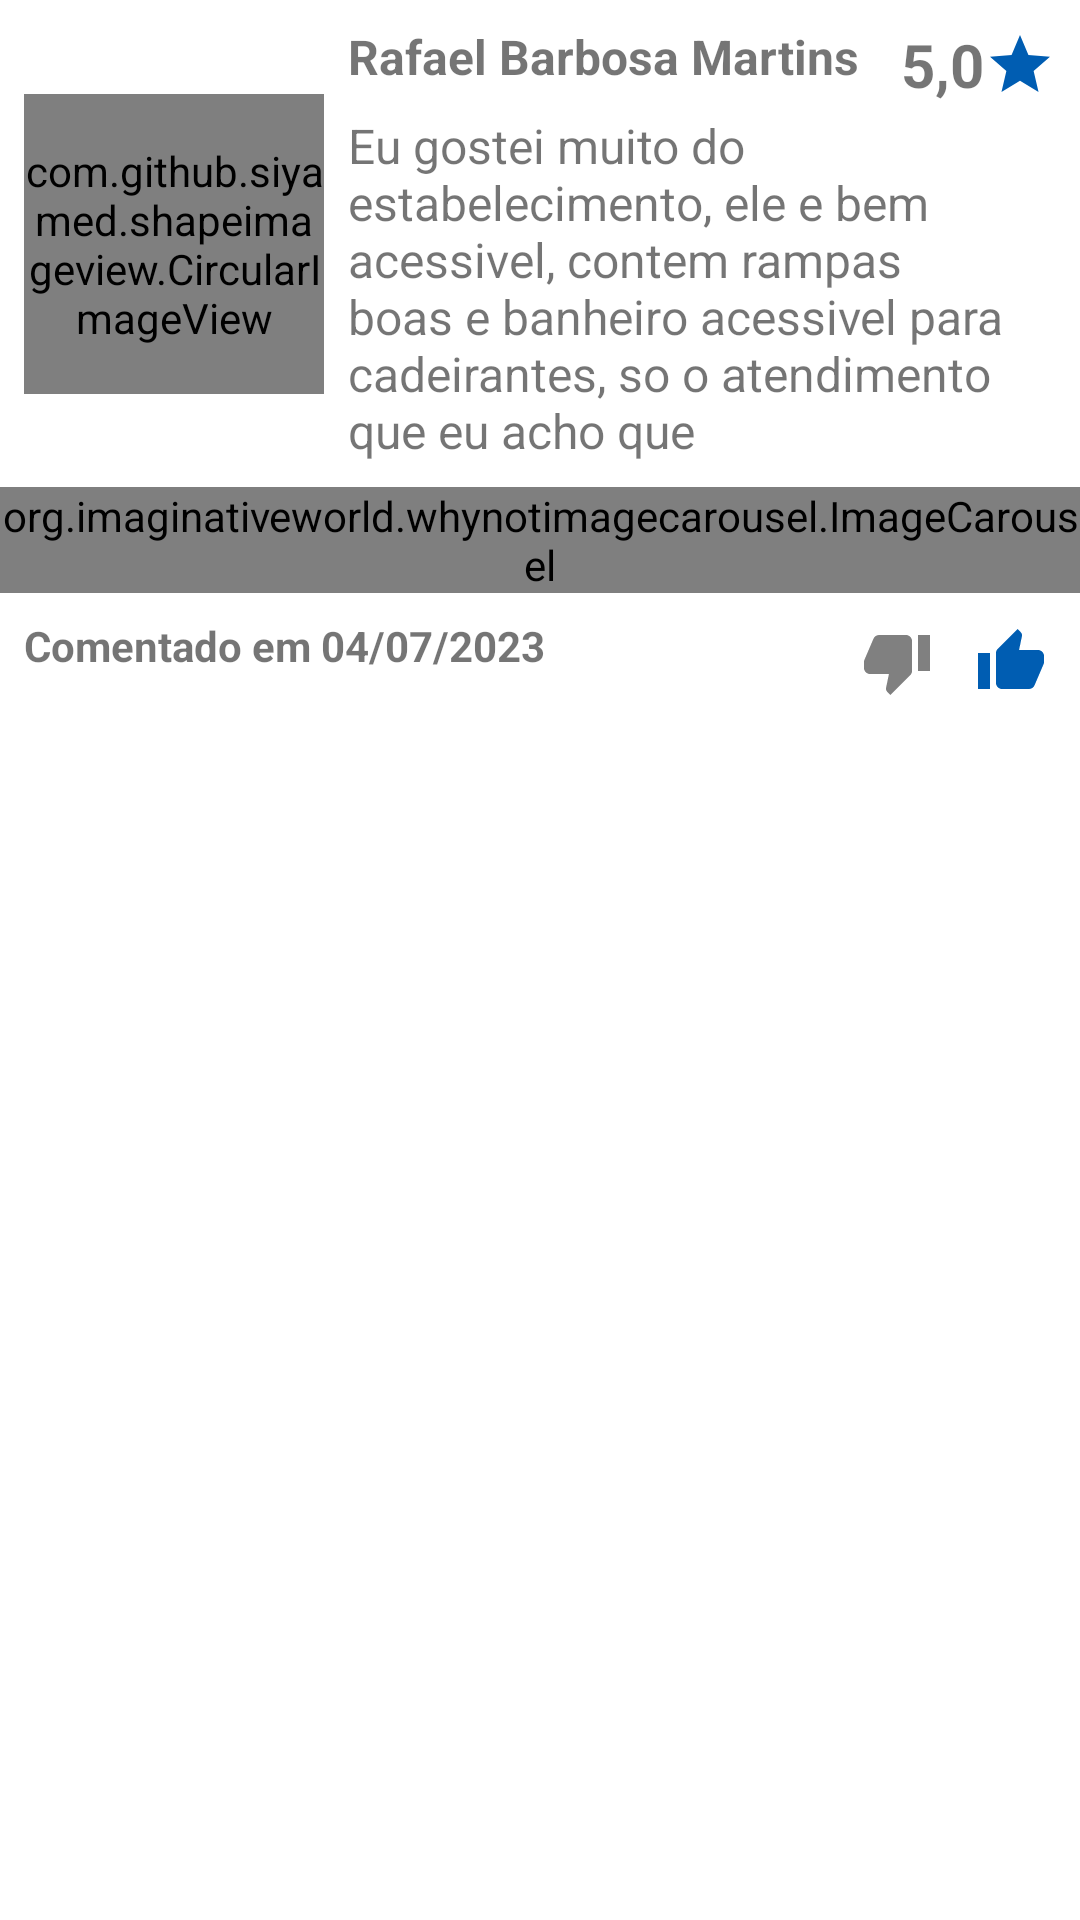

Point at icon controls on the screen. Image size 1080 × 1920, points as (x=x, y=y).
star: (x=1020, y=63)
thumb down: (x=897, y=665)
thumb up: (x=1011, y=659)
